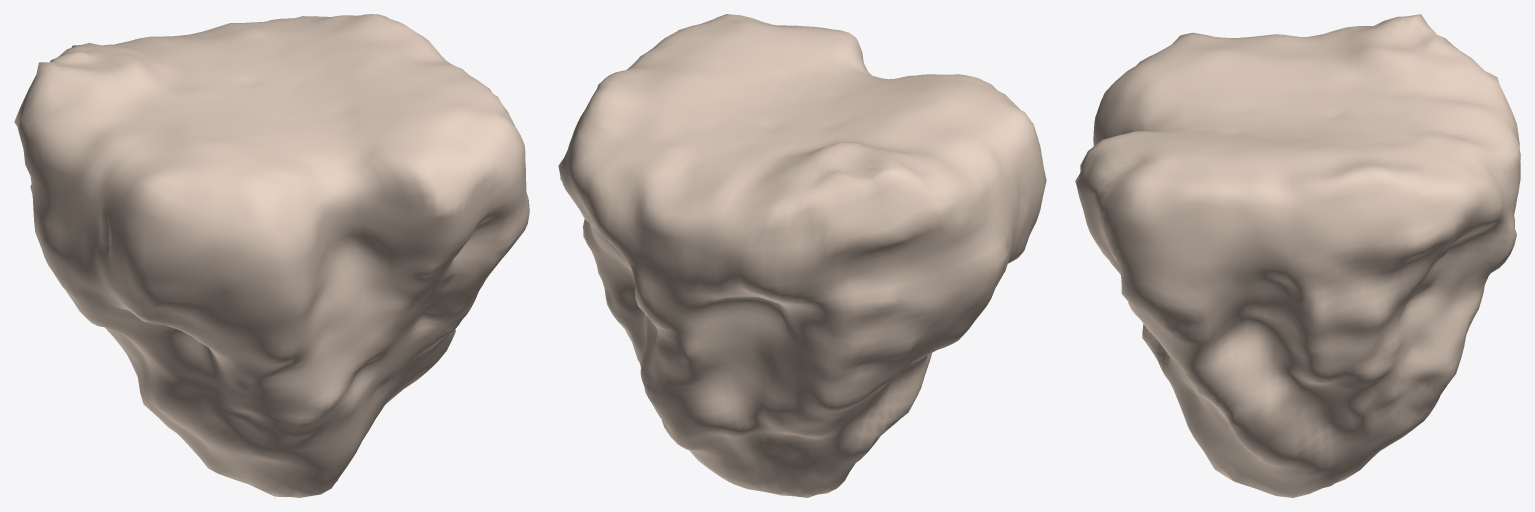
The model's file is air_floatingIsland_01_mesh.fbx.
3 renders of one model, left to right at view 1: azimuth 30°, elevation 25°; view 2: azimuth 150°, elevation 25°; view 3: azimuth 270°, elevation 25°, orthographic. The views are drawn at different scales.
Parts seen in each view (by area): view 1: cubelow; view 2: cubelow; view 3: cubelow.
Part boxes in pixels (box(x1,y1,x2,y2)): cubelow: box(14, 14, 529, 497); cubelow: box(558, 14, 1046, 497); cubelow: box(1075, 14, 1520, 497).
Size of the model in its own units: 2502 by 2424 by 2495.
